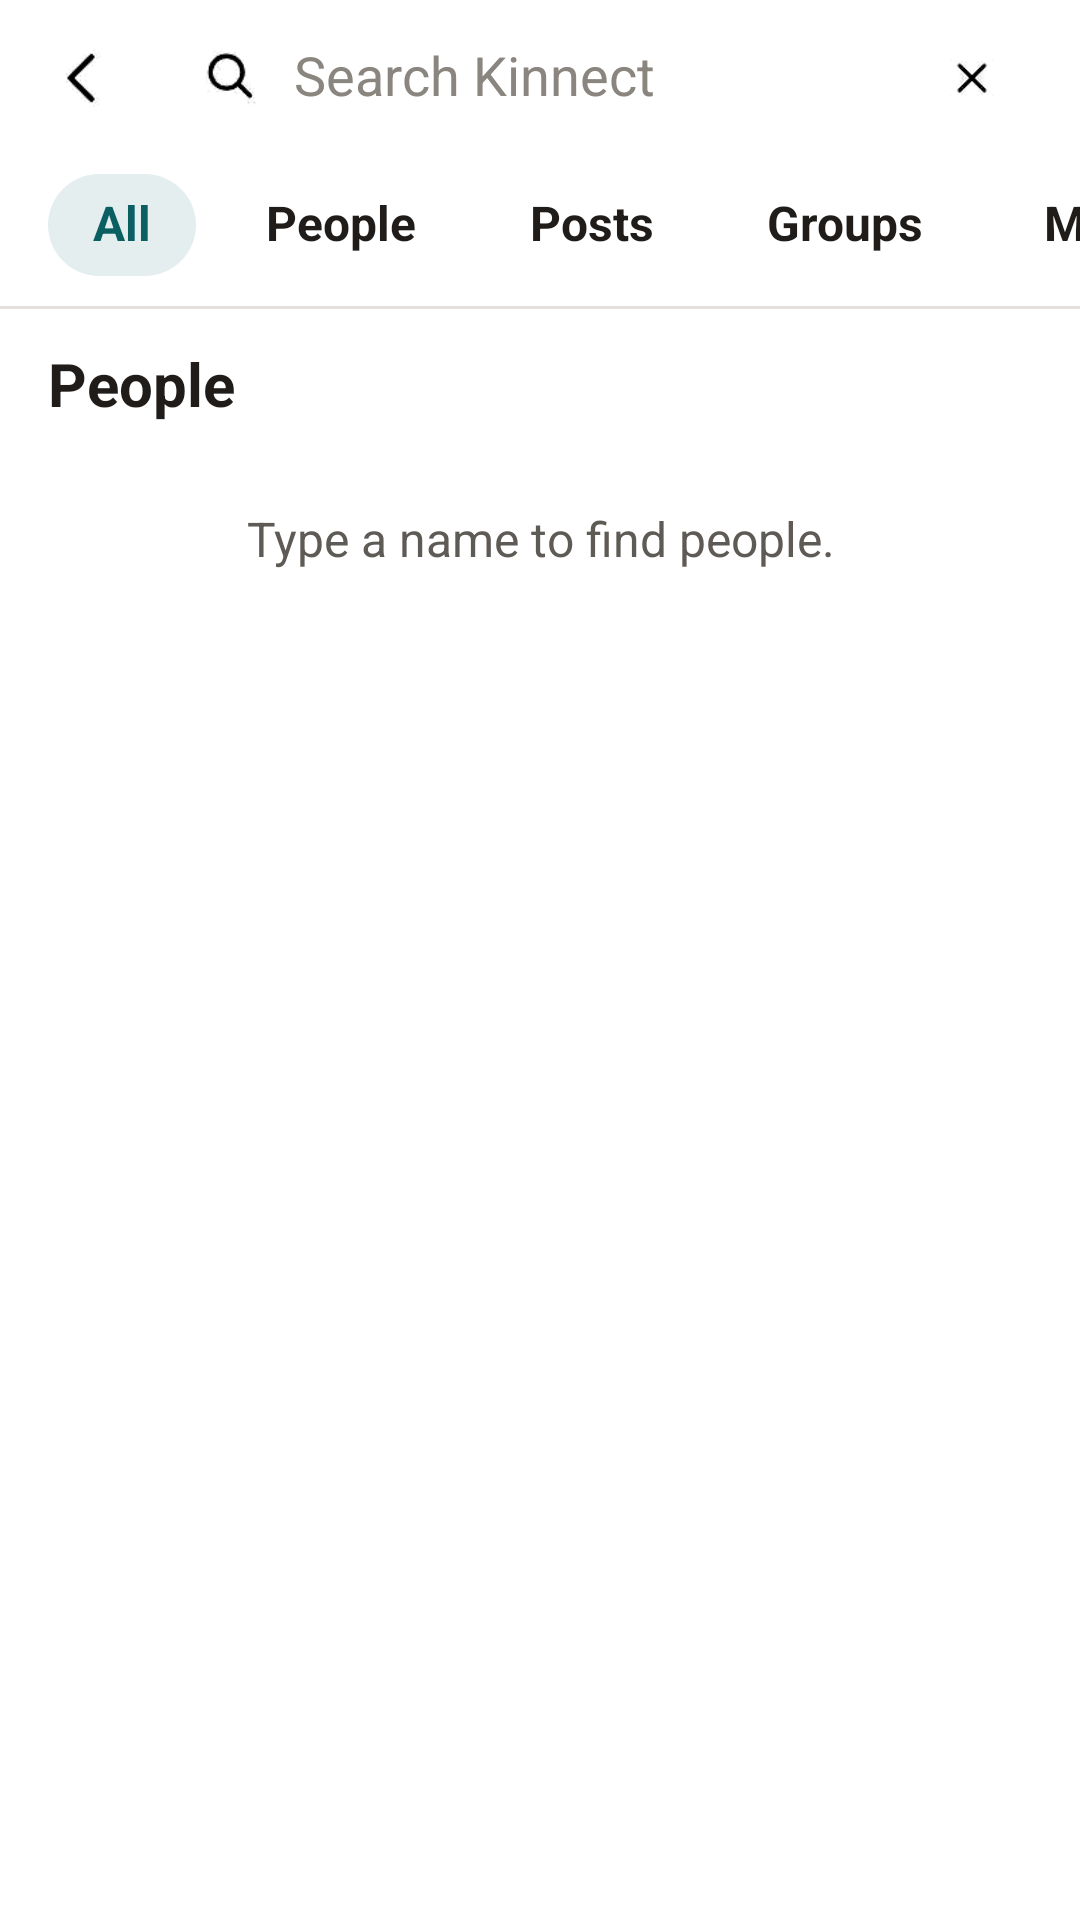

Where icons sit on this 1080w x 1920h app screen, as box=[x1, y1, x2, y2]:
Back: box=[66, 53, 95, 103]
Clear: box=[957, 63, 987, 93]
